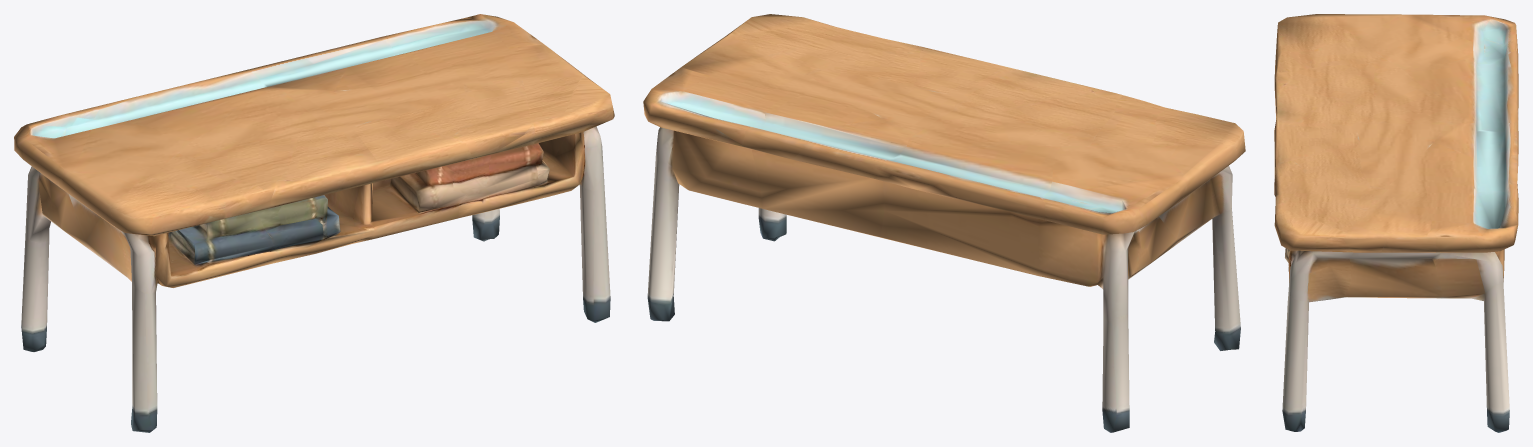
The model's file is desk.low.glb.
3 renders of one model, left to right at view 1: azimuth 30°, elevation 25°; view 2: azimuth 150°, elevation 25°; view 3: azimuth 270°, elevation 25°, orthographic. The views are drawn at different scales.
Parts seen in each view (by area): view 1: tripo_node_b1cdfc5c-08b7-4f80-a41d-1fa9920e12f6; view 2: tripo_node_b1cdfc5c-08b7-4f80-a41d-1fa9920e12f6; view 3: tripo_node_b1cdfc5c-08b7-4f80-a41d-1fa9920e12f6.
Boxes of the visible parts, left/top/right/bottom form: tripo_node_b1cdfc5c-08b7-4f80-a41d-1fa9920e12f6: left=14, top=14, right=614, bottom=432; tripo_node_b1cdfc5c-08b7-4f80-a41d-1fa9920e12f6: left=643, top=14, right=1245, bottom=432; tripo_node_b1cdfc5c-08b7-4f80-a41d-1fa9920e12f6: left=1274, top=14, right=1518, bottom=432.
Bounding box in the file's own units: 1.56 × 0.6592 × 0.7198.
1 material, 1 textured.
